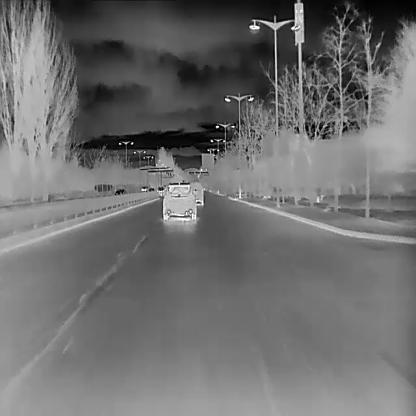car: (162, 181, 198, 221), (187, 180, 205, 205), (113, 188, 127, 196), (157, 185, 166, 197), (139, 185, 148, 192), (147, 187, 155, 192)
